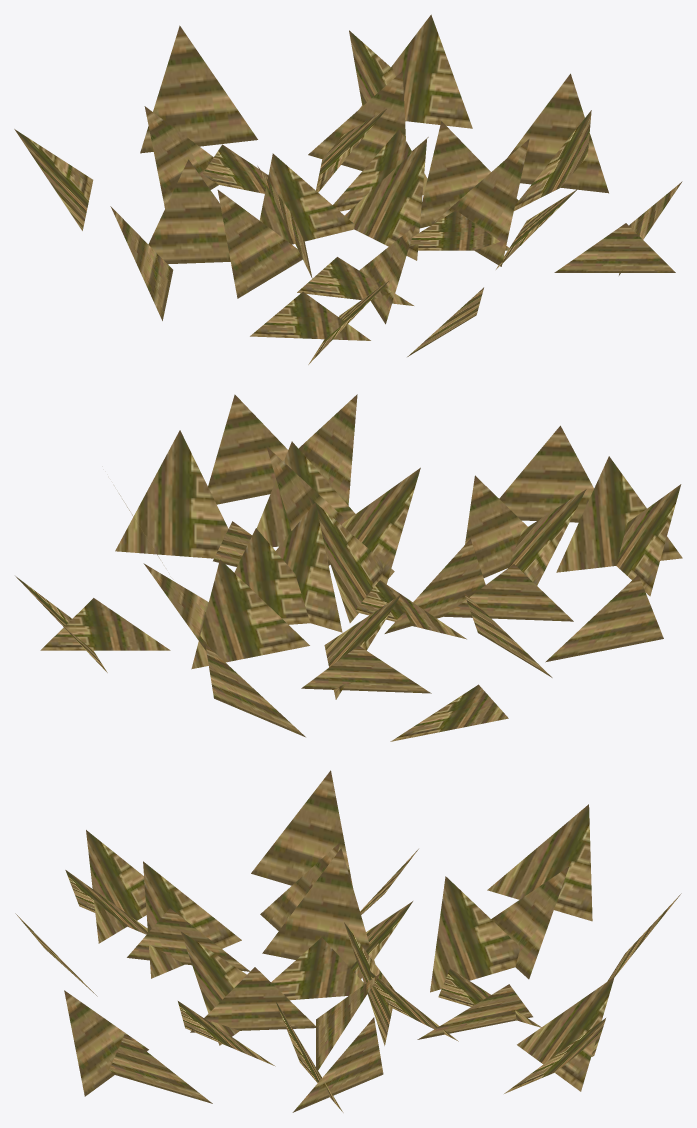
File: dec_Ground_Grass_12_47831.glb
3 views of the same model, one above another, from view 1: azimuth 30°, elevation 25°; view 2: azimuth 150°, elevation 25°; view 3: azimuth 270°, elevation 25° (orthographic). The views are drawn at different scales.
Visible parts, largest first — view 1: Ground_Grass_12_mesh; view 2: Ground_Grass_12_mesh; view 3: Ground_Grass_12_mesh.
Boxes of the visible parts, box(x1,y1,x2,y2) form: Ground_Grass_12_mesh: box(14, 14, 682, 364); Ground_Grass_12_mesh: box(15, 394, 682, 741); Ground_Grass_12_mesh: box(15, 770, 681, 1112).
Bounding box in the file's own units: 1.7 × 0.3226 × 1.94.
Materials: 1 (1 with a texture image).
